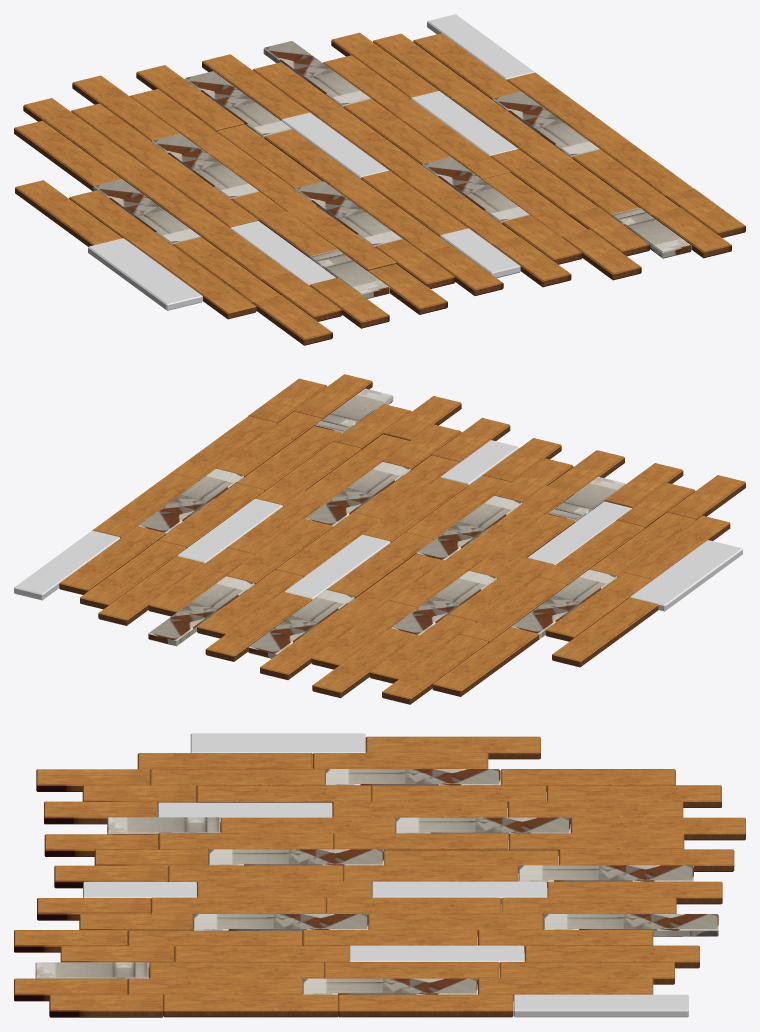
File: _loor_1.fbx
3 renders of one model, top to bottom at view 1: azimuth 30°, elevation 25°; view 2: azimuth 150°, elevation 25°; view 3: azimuth 270°, elevation 25°, orthographic. The views are drawn at different scales.
Visible parts, largest first — view 1: floor.003; view 2: floor.003; view 3: floor.003.
Boxes of the visible parts, x1=… form: floor.003: x1=14, y1=14, x2=745, y2=345; floor.003: x1=14, y1=374, x2=745, y2=704; floor.003: x1=14, y1=733, x2=745, y2=1017.
Bounding box in the file's own units: 235 × 3.81 × 262.
3 materials, 2 textured.
